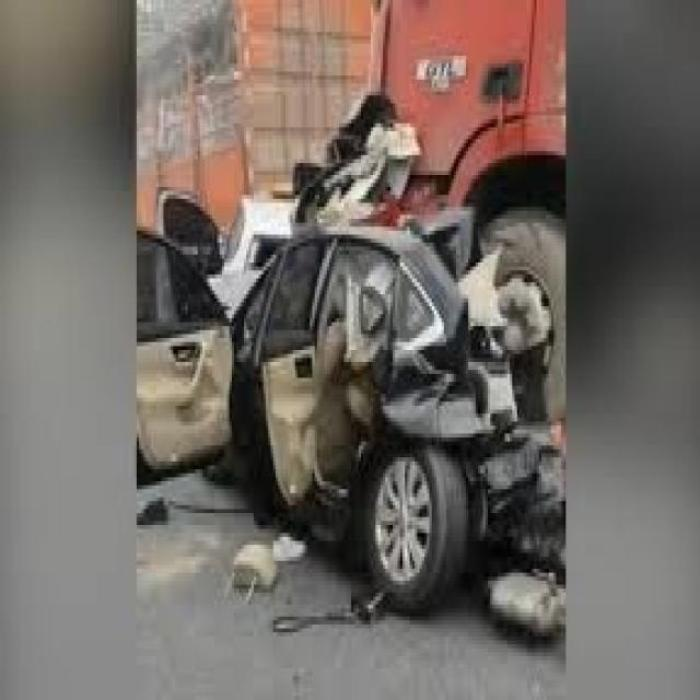Accident: (195, 72, 568, 640)
